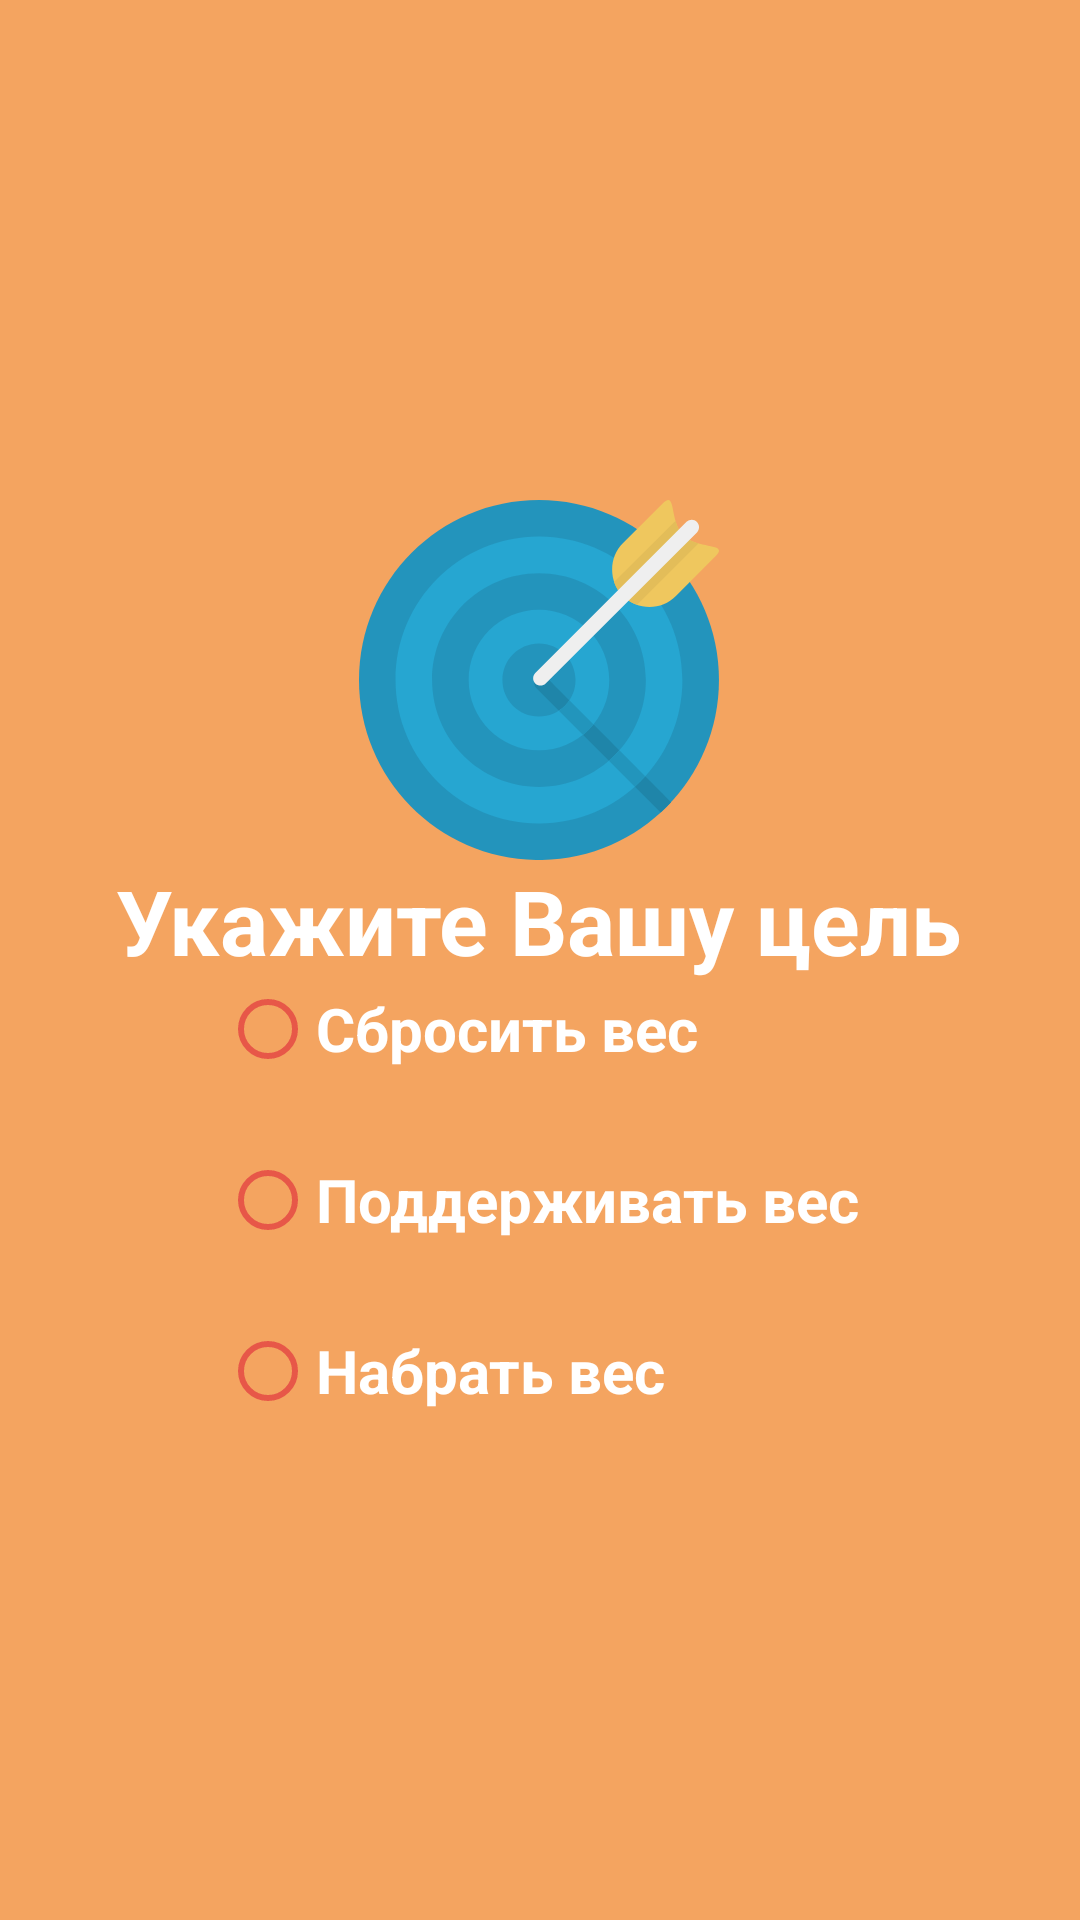

Icon bounding boxes for this 1080×1920 phone screenshot, format Rect(x1, y1, x2, y2):
target: Rect(359, 500, 719, 860)
